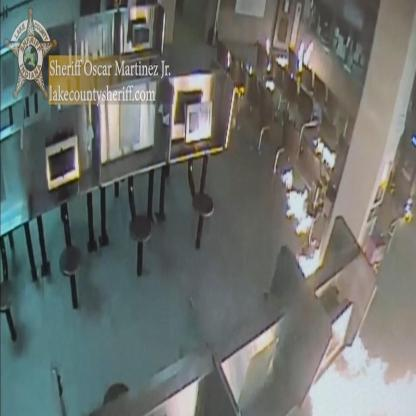fire: (309, 333, 416, 416), (281, 170, 313, 232), (298, 38, 314, 70)
